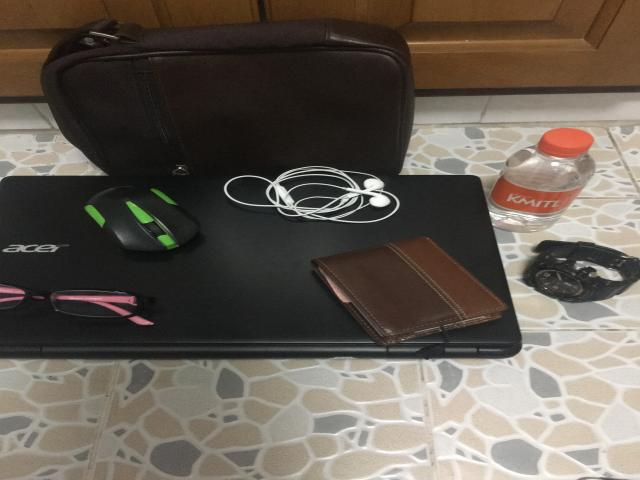Glasses: (0, 284, 153, 325)
Mobile phone: (85, 187, 200, 251)
Wallet: (312, 236, 507, 346)
Watch: (523, 240, 640, 302)
bottle: (487, 128, 595, 232)
wire: (223, 166, 400, 223)
